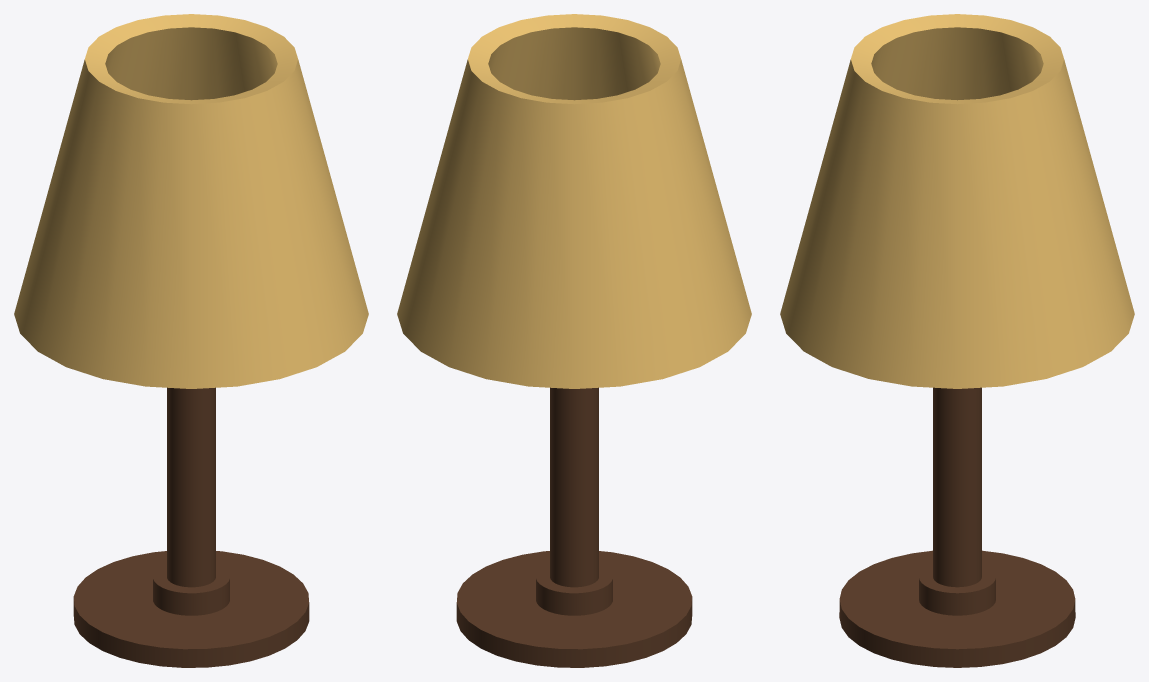
The model's file is sm_Lamp.fbx.
3 views of the same model, side by side, from view 1: azimuth 30°, elevation 25°; view 2: azimuth 150°, elevation 25°; view 3: azimuth 270°, elevation 25° (orthographic).
Parts seen in each view (by area): view 1: Cylinder; view 2: Cylinder; view 3: Cylinder.
Part boxes in pixels (x1=…): Cylinder: x1=14, y1=14, x2=368, y2=667; Cylinder: x1=397, y1=14, x2=751, y2=667; Cylinder: x1=780, y1=14, x2=1134, y2=667.
Size of the model in its own units: 33.87 by 58.87 by 33.87.
